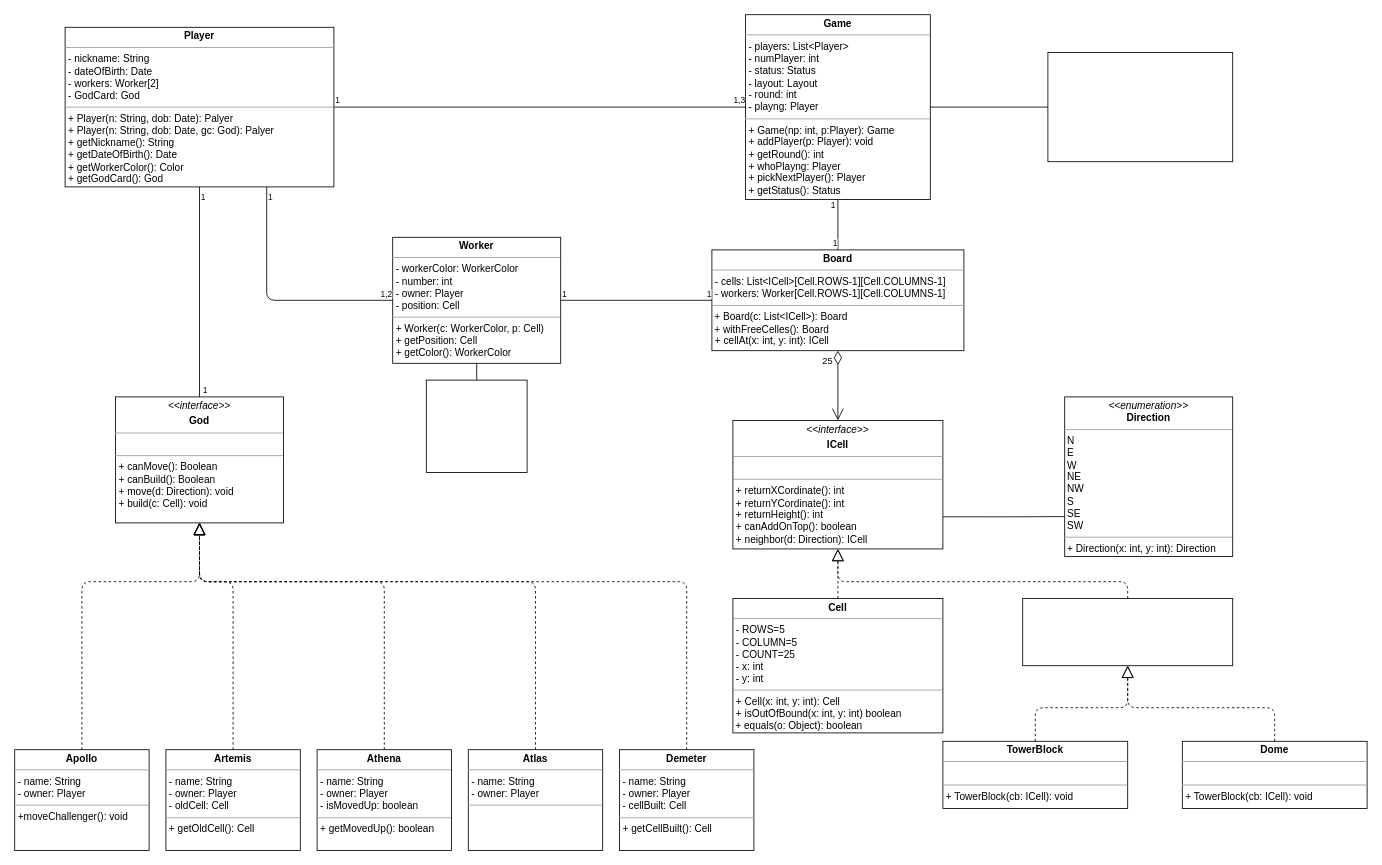
Image size: 1382x865. Some labels were removed from this diagram. The shapes that lost their labels are listed below. From the top down, each one's centre as x and y in pixels, then its label:
point (1140, 107): <<enumeration>> Status WEATING READY INPROGRESS TERMINATED
point (476, 425): <<enumeration>> WorkerColor BLUE GREEN YELLOW
point (1127, 632): CellDecorator - cellBelow: ICell + CellDecorator(cb: ICell): CellDecorator
